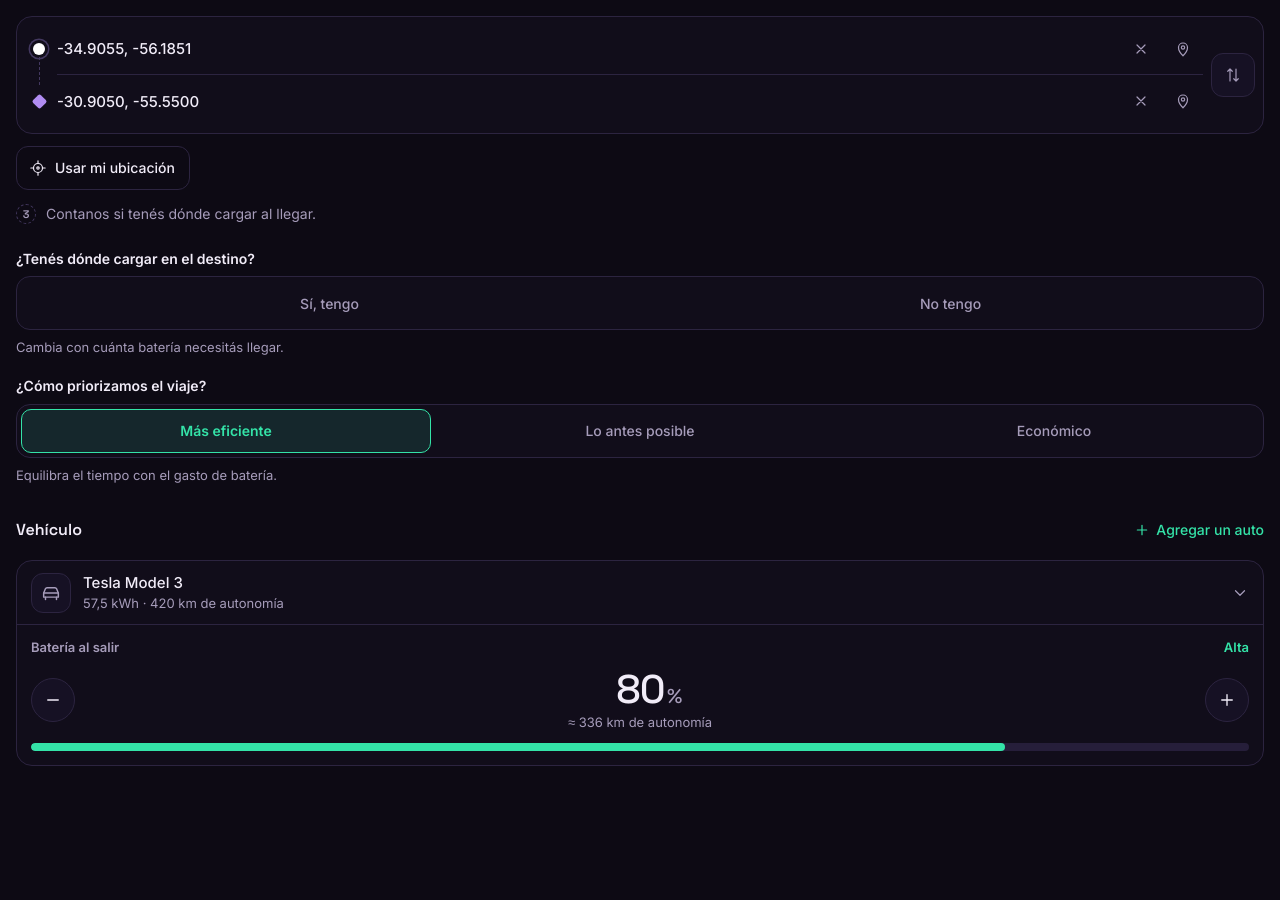
Test: PlanView › no ofrece calcular hasta que se contesta si hay dónde cargar en el destino
Check: the text "Contanos si tenés dónde cargar al llegar." is shown, box [46,204,316,224]
Check: the button "calcular ruta" is not shown
Click the radio button labelled "No tengo" at (950, 304), box [642,282,1259,326]
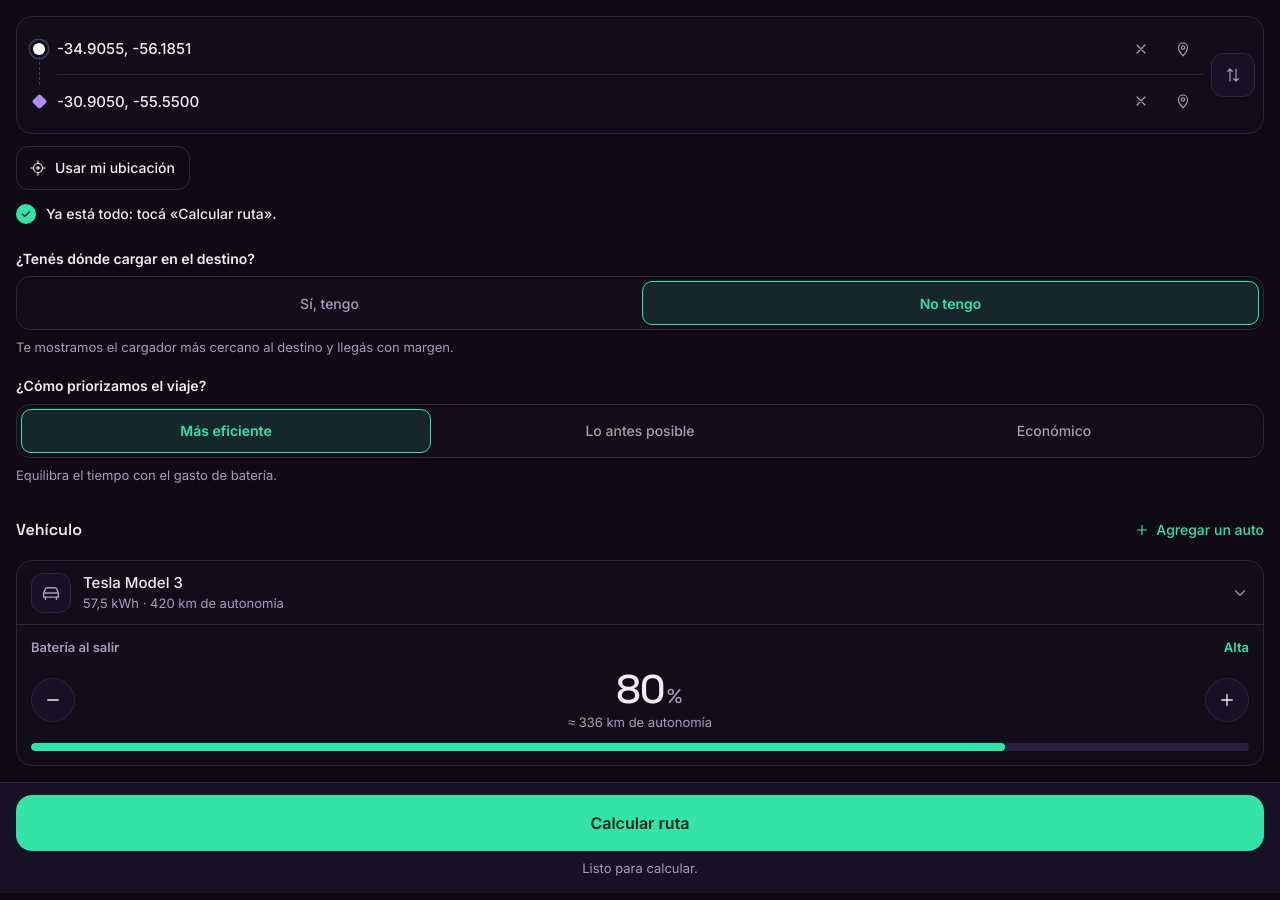
Check: the button "Calcular ruta" is shown, box [16,795,1264,851]
Check: the text "Te mostramos el cargador más cercano al destino y llegás con margen." is shown, box [16,340,454,356]
